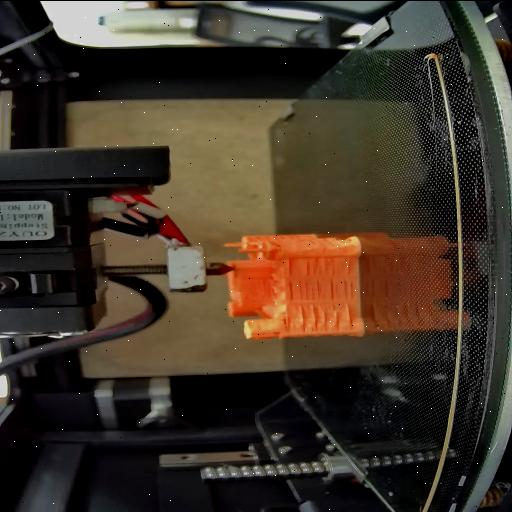cracks: (300, 303, 354, 330), (303, 254, 352, 277), (288, 278, 320, 301), (330, 278, 354, 300), (274, 314, 290, 333), (284, 257, 295, 279)
